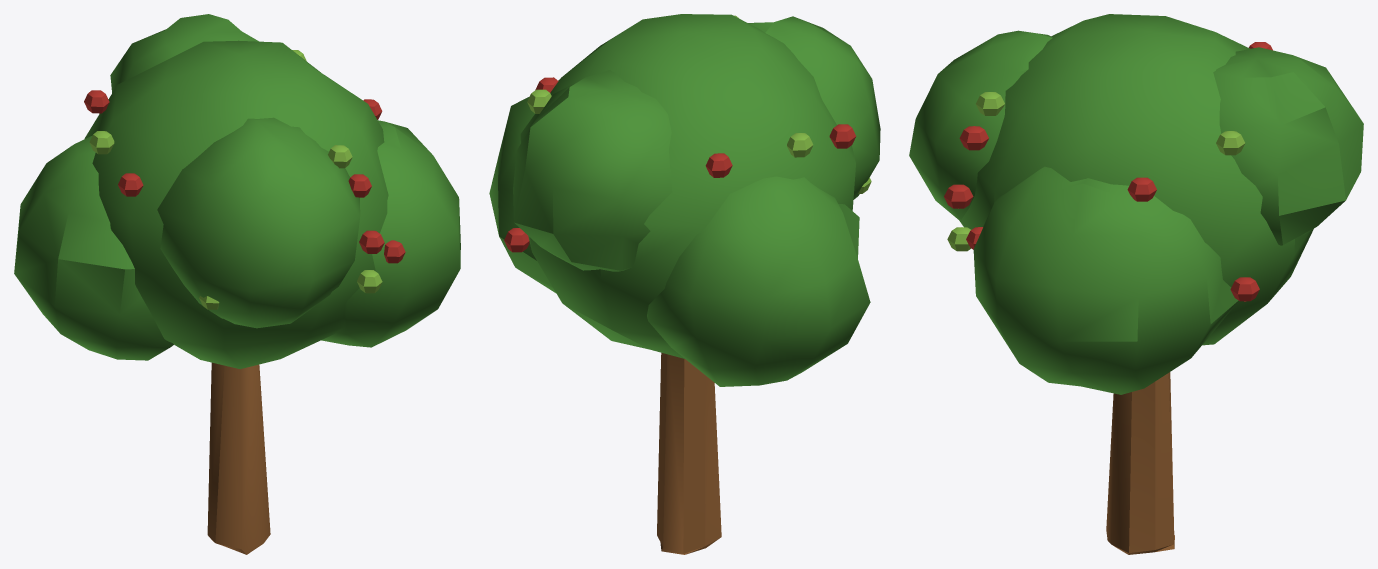
File: 155_pommier_normand.fbx
3 renders of one model, left to right at view 1: azimuth 30°, elevation 25°; view 2: azimuth 150°, elevation 25°; view 3: azimuth 270°, elevation 25°, orthographic. The views are drawn at different scales.
Visible parts, largest first — view 1: Feuillage, Tronc, Pommes; view 2: Feuillage, Tronc, Pommes; view 3: Feuillage, Tronc, Pommes.
Boxes of the visible parts, x1,y1,x2,y2 form: Feuillage: (14, 14, 460, 368); Tronc: (207, 362, 270, 554); Pommes: (84, 50, 405, 309); Feuillage: (489, 14, 880, 386); Tronc: (657, 353, 721, 554); Pommes: (504, 15, 871, 252); Feuillage: (909, 14, 1363, 394); Tronc: (1106, 372, 1174, 554); Pommes: (944, 42, 1272, 301).
Bounding box in the file's own units: 2.24 × 2.8 × 2.24.
Materials: 1 (1 with a texture image).
